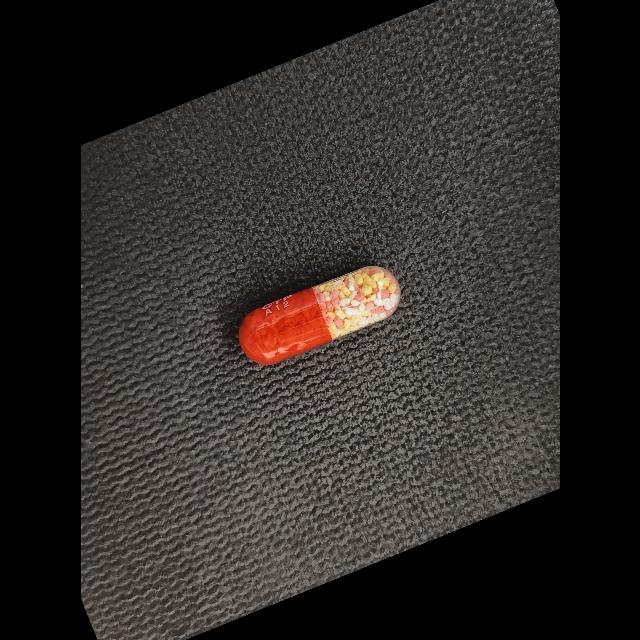Intact Capsule: (238, 266, 400, 365)
